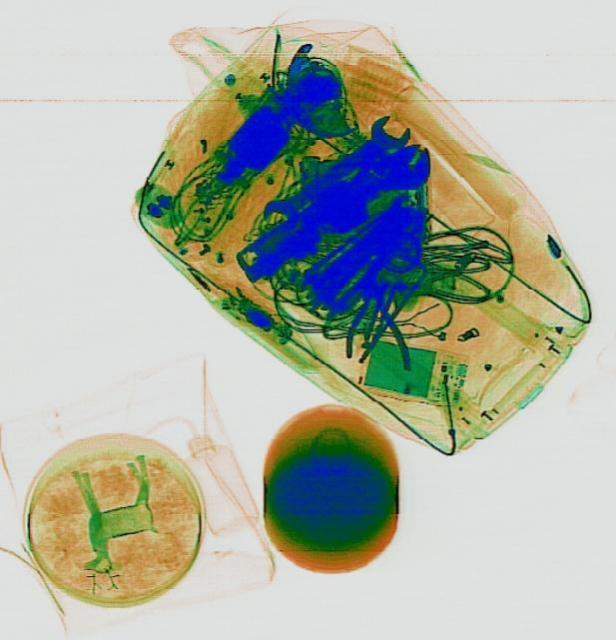Pliers: (340, 276, 407, 372)
Wrench: (251, 104, 415, 240)
